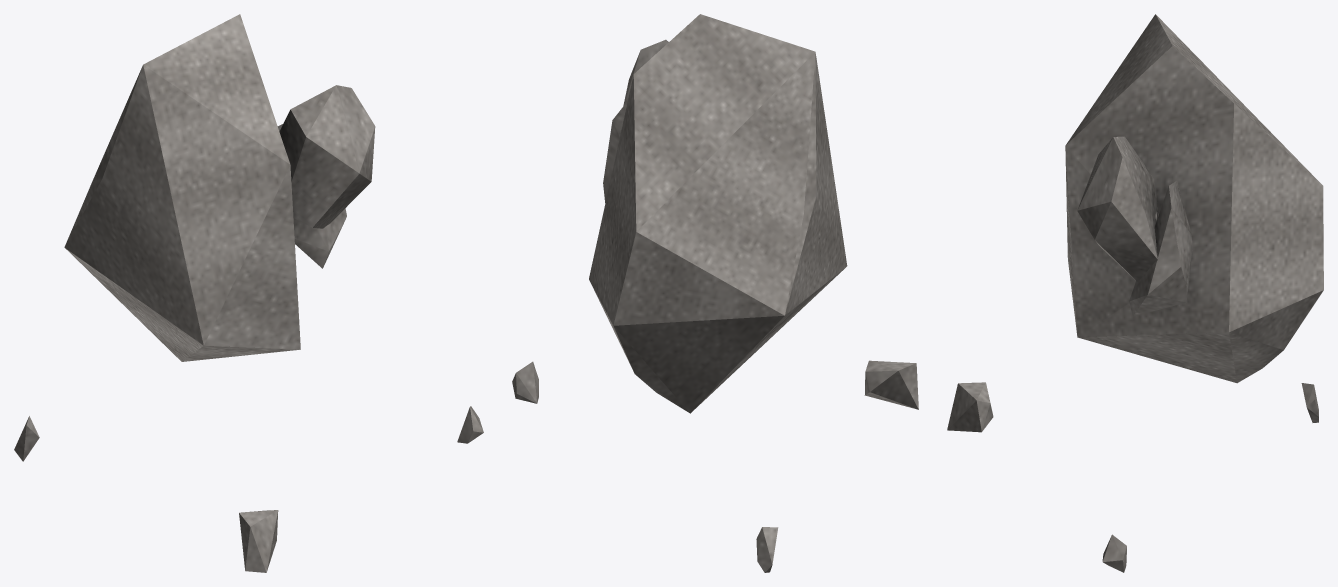
The model's file is boulder_17.glb.
3 views of the same model, side by side, from view 1: azimuth 30°, elevation 25°; view 2: azimuth 150°, elevation 25°; view 3: azimuth 270°, elevation 25° (orthographic). The views are drawn at different scales.
Parts seen in each view (by area): view 1: boulder_17_c0; view 2: boulder_17_c0; view 3: boulder_17_c0.
Boxes of the visible parts, left/top/right/bottom form: boulder_17_c0: left=14, top=14, right=483, bottom=572; boulder_17_c0: left=512, top=14, right=918, bottom=572; boulder_17_c0: left=947, top=14, right=1323, bottom=572.
Size of the model in its own units: 2.26 by 2.79 by 2.15.
1 material, 1 textured.
